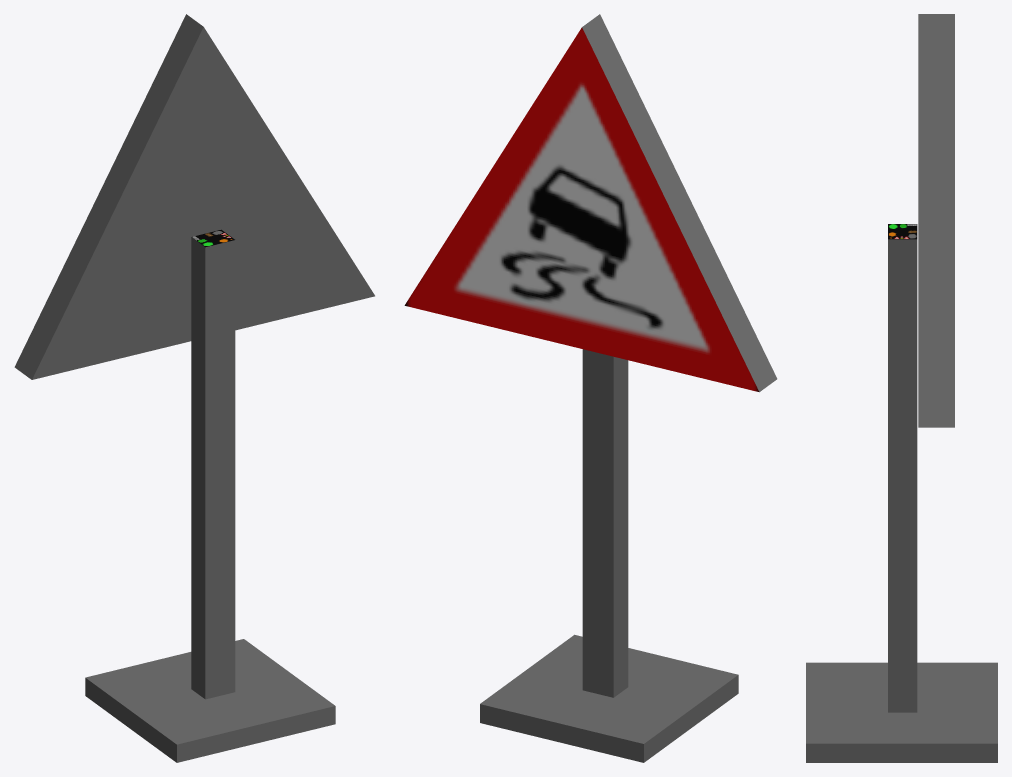
File: RaceSign2.fbx
3 views of the same model, side by side, from view 1: azimuth 30°, elevation 25°; view 2: azimuth 150°, elevation 25°; view 3: azimuth 270°, elevation 25° (orthographic). The views are drawn at different scales.
Parts seen in each view (by area): view 1: KayganZemin; view 2: KayganZemin; view 3: KayganZemin.
Boxes of the visible parts, x1,y1,x2,y2 form: KayganZemin: (14, 14, 374, 762); KayganZemin: (404, 14, 777, 762); KayganZemin: (806, 14, 997, 762).
Size of the model in its own units: 1.73 by 3.26 by 0.8.
